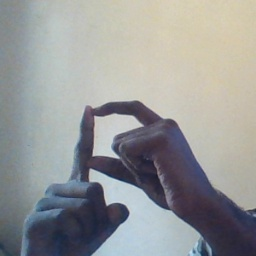D: (60, 96, 174, 215)
